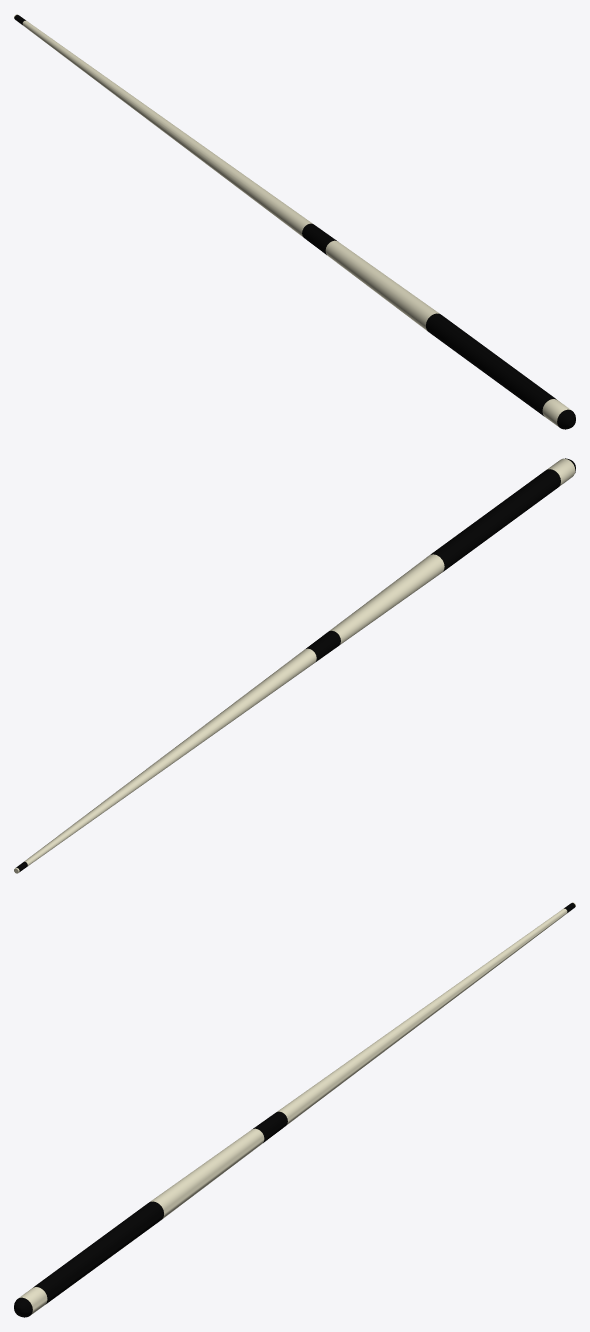
Rendered from Cue.FBX.
3 views of the same model, one above another, from view 1: azimuth 30°, elevation 25°; view 2: azimuth 150°, elevation 25°; view 3: azimuth 330°, elevation 25° (orthographic).
Visible parts, largest first — view 1: Cue; view 2: Cue; view 3: Cue.
Boxes of the visible parts, bbox=[...] form: Cue: bbox=[14, 14, 575, 429]; Cue: bbox=[14, 458, 575, 873]; Cue: bbox=[14, 902, 575, 1317].
Size of the model in its own units: 2.69 by 2.65 by 138.
